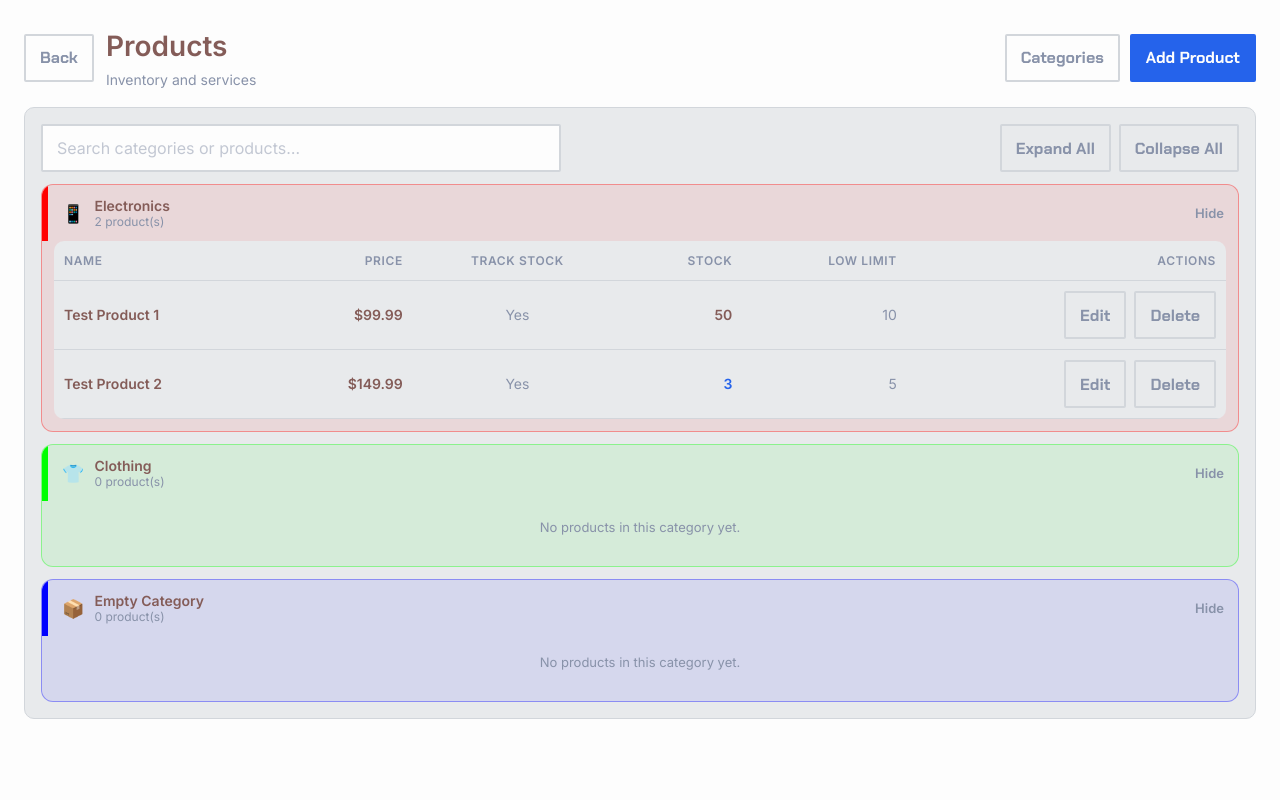
ProductsPage Component - Black Box Tests › Product Search & Filter › should filter products by name
The width and height of the screenshot is (1280, 800).
Expected: the text "Test Product 1" is shown, x1=64 y1=306 x2=159 y2=323
In the field with placeholder "Search categories or products…": (301, 148) x1=41 y1=124 x2=561 y2=172, type "Product 1"
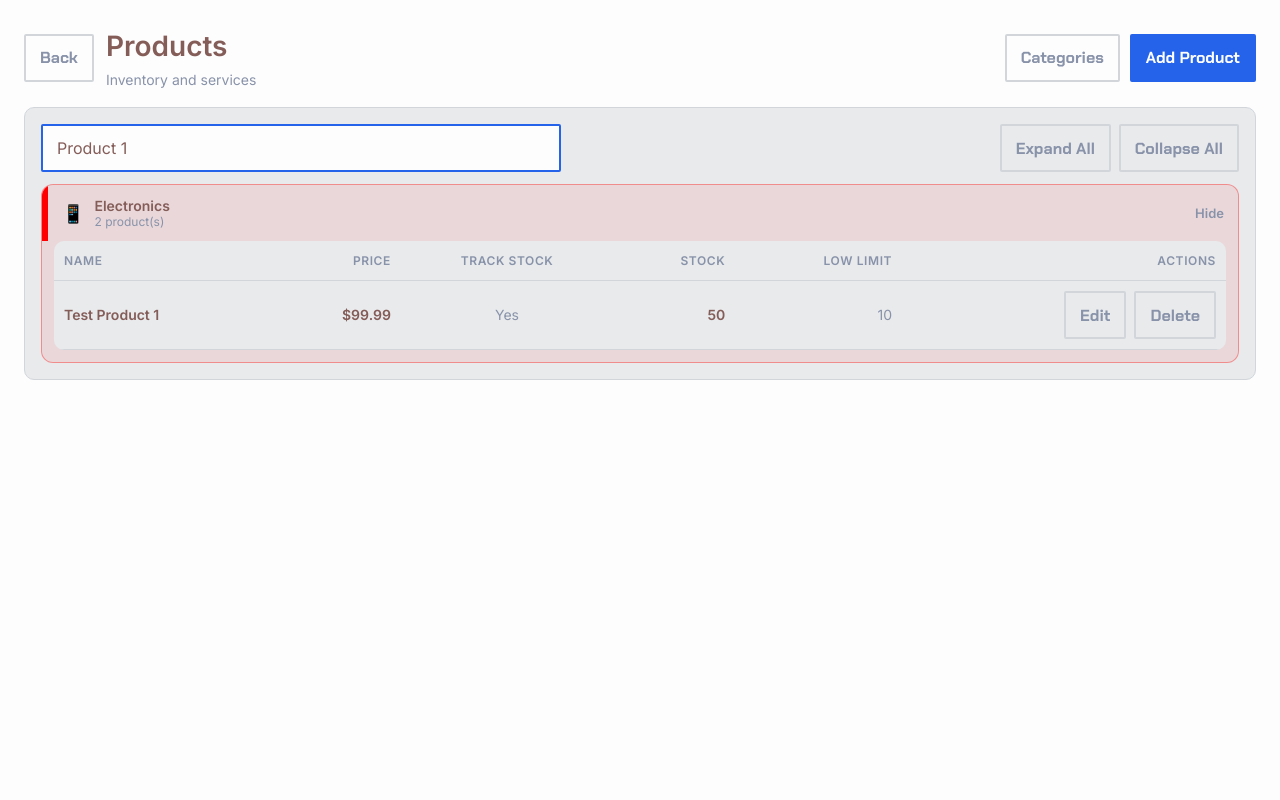
Expected: the text "Test Product 1" is shown, x1=64 y1=306 x2=159 y2=323
Result: the text "Test Product 2" is gone
